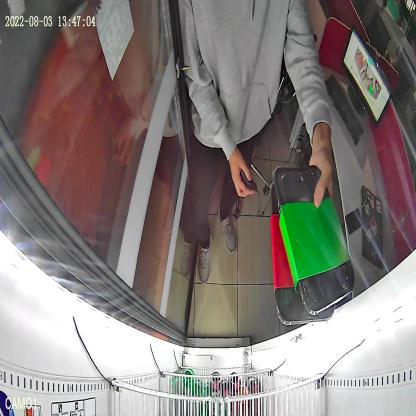green: (272, 166, 356, 316)
red: (270, 181, 336, 324)
